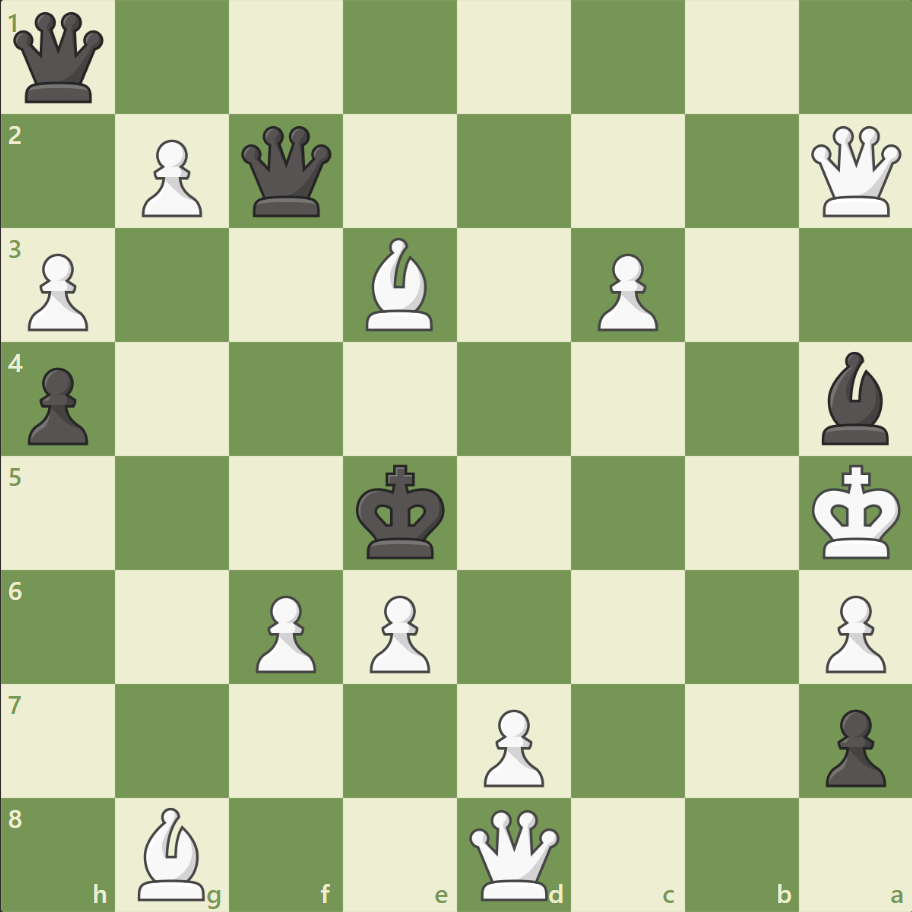B: (131, 801, 215, 904), (358, 233, 442, 336)
K: (806, 458, 906, 566)
P: (474, 700, 549, 791), (247, 586, 322, 677), (20, 246, 95, 337), (133, 132, 208, 223), (815, 586, 889, 677), (361, 586, 435, 677), (588, 246, 662, 337)
Q: (805, 122, 904, 222), (464, 804, 563, 903)
b: (812, 347, 896, 449)
k: (351, 458, 451, 566)
p: (20, 359, 95, 450), (815, 700, 889, 791)
q: (237, 122, 336, 222), (10, 9, 109, 108)
